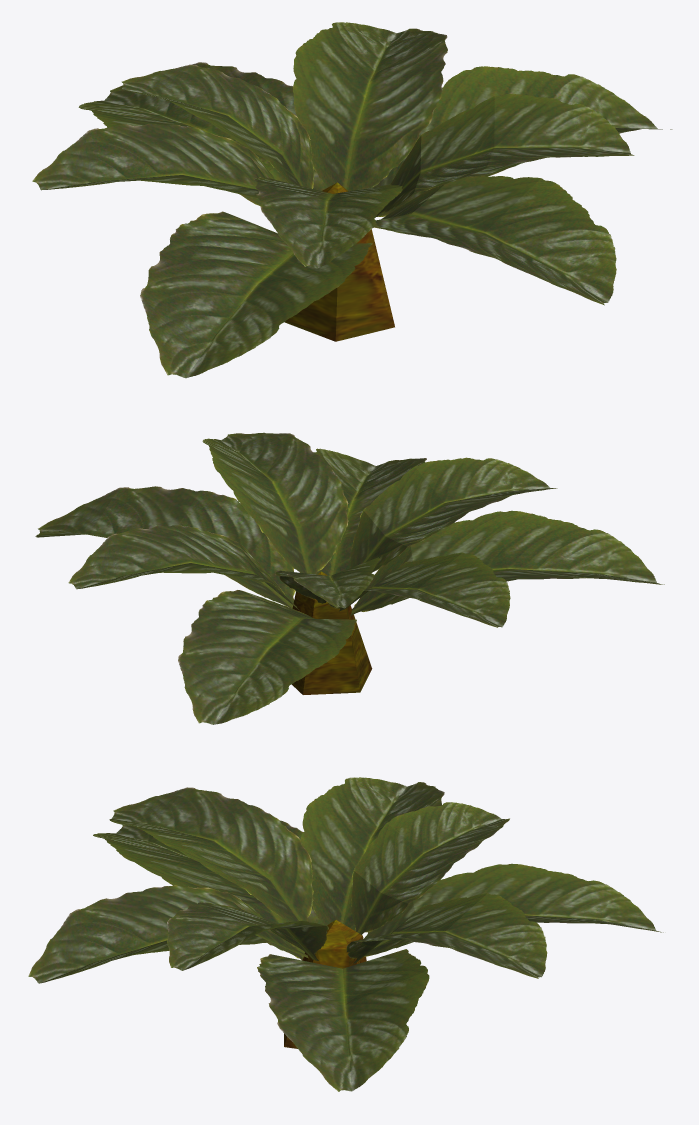
File: bigleafplant_01_small_low.fbx
3 views of the same model, one above another, from view 1: azimuth 30°, elevation 25°; view 2: azimuth 150°, elevation 25°; view 3: azimuth 270°, elevation 25° (orthographic). The views are drawn at different scales.
Visible parts, largest first — view 1: bigleafsb224; view 2: bigleafsb224; view 3: bigleafsb224.
Part boxes in pixels (box(x1,y1,x2,y2)): bigleafsb224: box(32, 22, 672, 378); bigleafsb224: box(35, 432, 664, 724); bigleafsb224: box(28, 777, 663, 1091).
Size of the model in its own units: 195 by 59.7 by 195.
